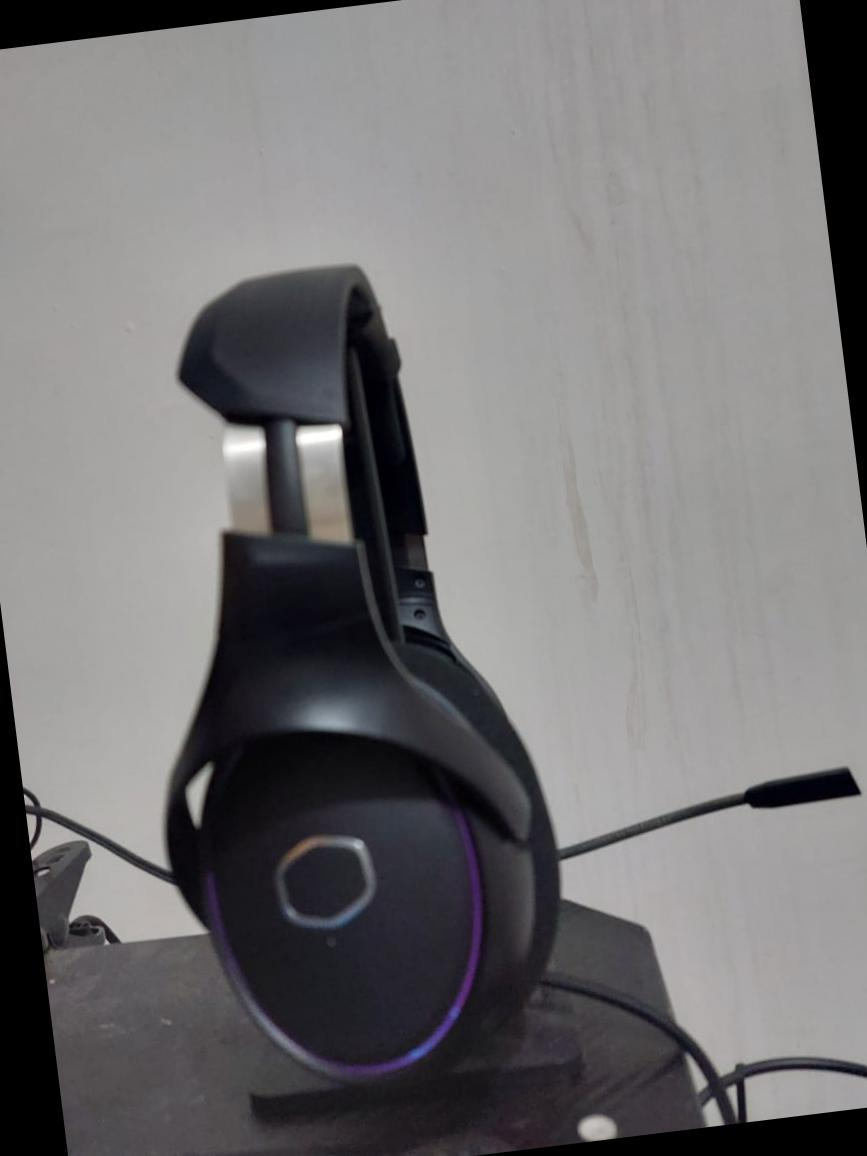Headset: (71, 186, 866, 1143)
